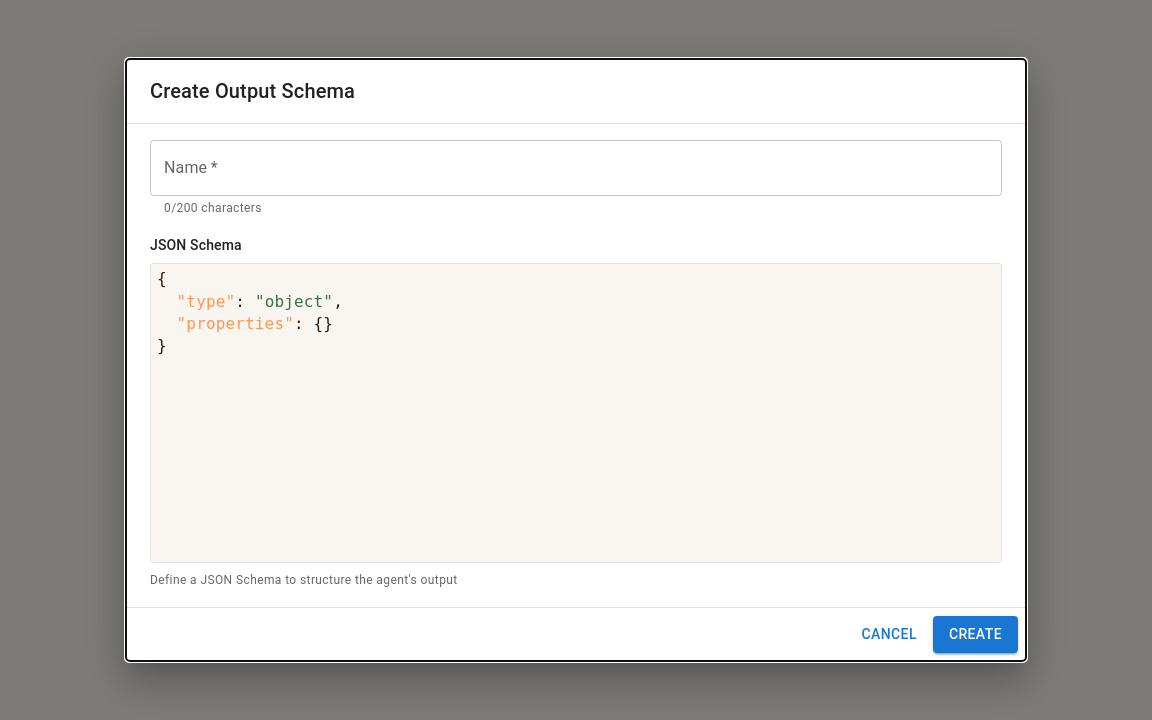
OutputSchemaFormDialog › handles generic API errors
This screenshot has width=1152, height=720.
Type "Test Schema" into the field labelled "Name *" at [576, 168], box [150,140,1002,196]
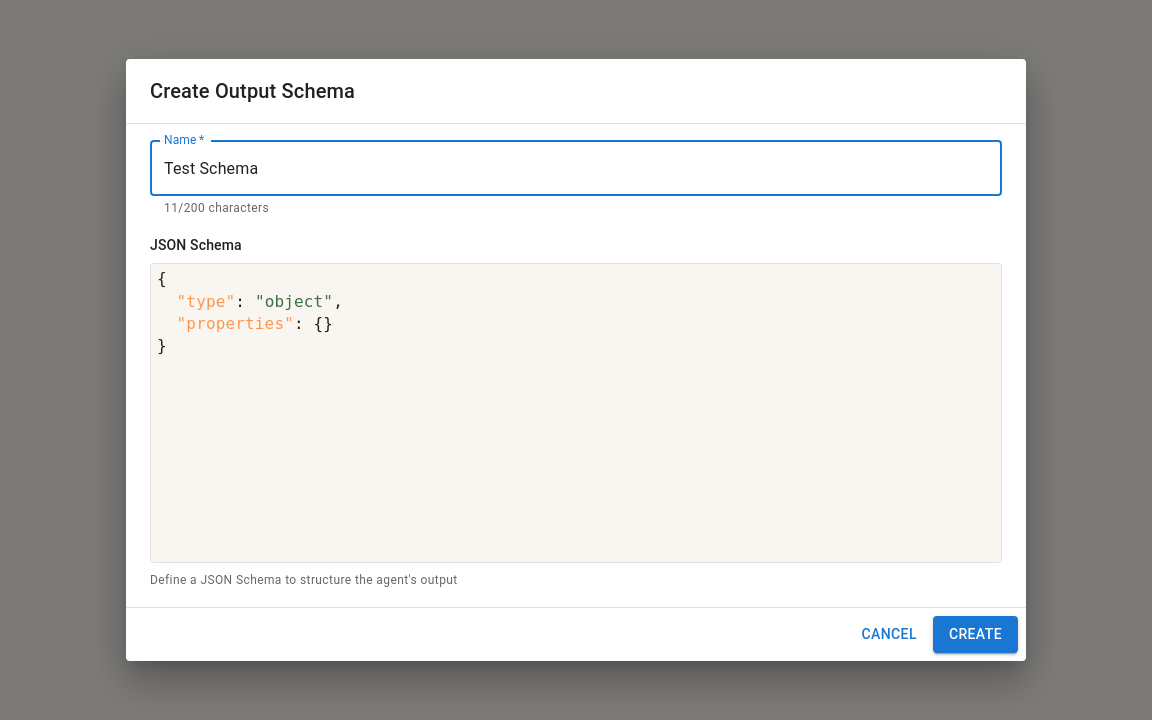
Click the button "Create" at [975, 634], box [933,616,1018,653]
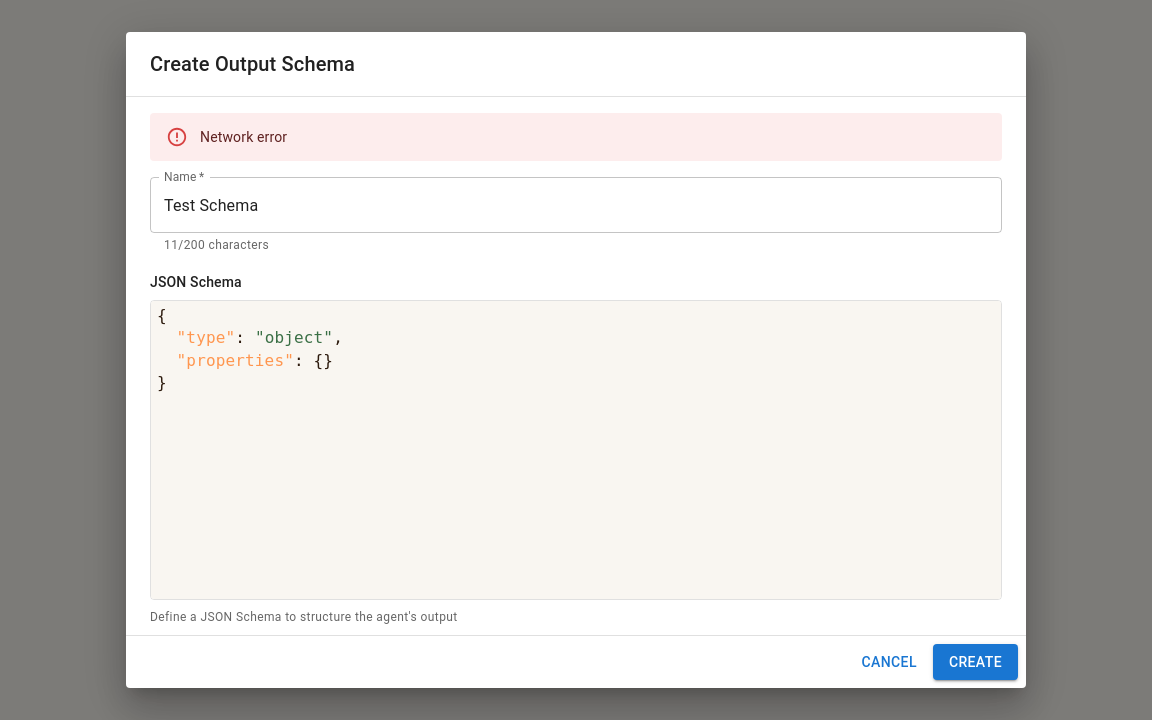
Now the text "Network error" is shown, box [200,129,287,145]
